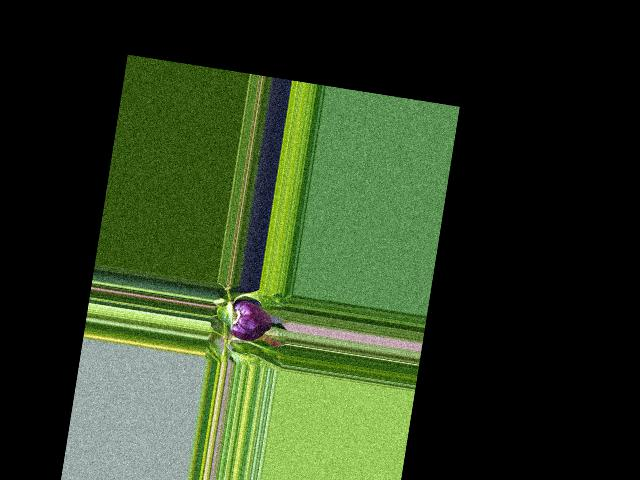bell_pepper: (224, 298, 276, 345)
